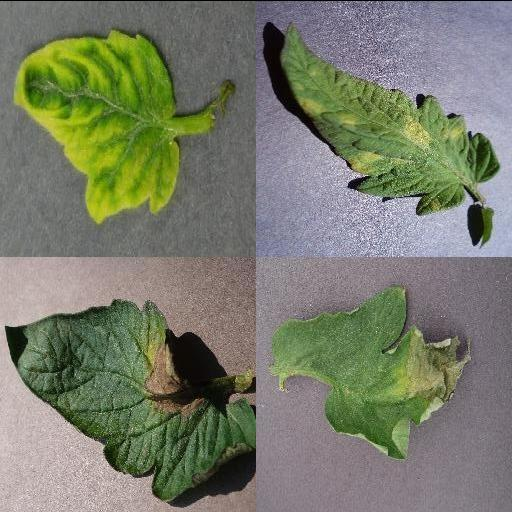Late Blight: (5, 297, 256, 500), (271, 285, 473, 461)
Leaf Mold: (280, 21, 502, 213)
Yellow Leaf Curl Virus: (14, 26, 180, 222)
